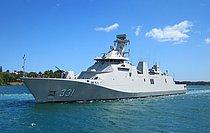MIL_Ship: (18, 32, 187, 103)
